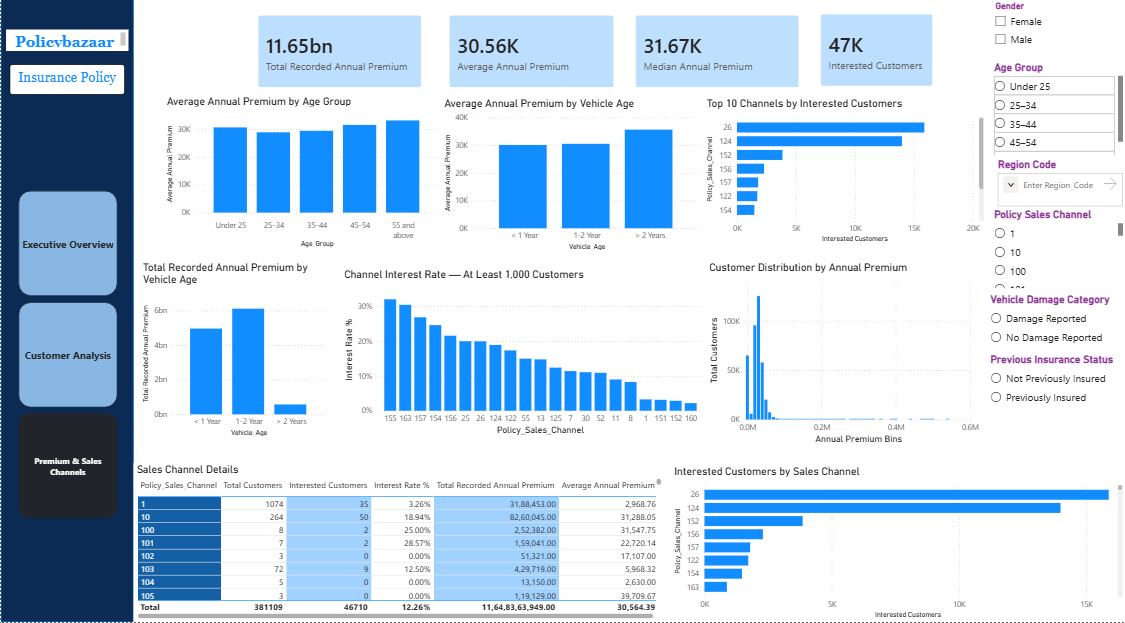

The page's visual inventory and layout, read from the dashboard file:
{"tool":"powerbi","page":{"name":"Premium & Sales Channels","canvas":[1600,1000],"ordinal":2},"visuals":[{"type":"slicer","fields":{"Values":["Customers.Gender"]},"box":[1378,4,222,108],"z":4000},{"type":"listSlicer","fields":{"Values":["Customers.Age_Group"]},"box":[1382,102,216,156],"z":5000},{"type":"listSlicer","fields":{"Values":["Customers.Previous_Insurance_Status"]},"box":[1380,570,216,94],"z":6000},{"type":"textSlicer","fields":{"Values":["Customers.Region_Code"]},"box":[1380,258,210,82],"z":7000},{"type":"listSlicer","fields":{"Values":["Customers.Policy_Sales_Channel"]},"box":[1384,340,216,134],"z":8000},{"type":"listSlicer","fields":{"Values":["Customers.Vehicle_Damage_Category"]},"box":[1378,474,222,96],"z":9000},{"type":"cardVisual","fields":{"Data":["Customers.Total Recorded Annual Premium"]},"box":[18.6,4.3,295.7,150],"z":9001},{"type":"cardVisual","fields":{"Data":["Customers.Average Annual Premium"]},"box":[304.3,4.3,297.1,150],"z":9002},{"type":"cardVisual","fields":{"Data":["Customers.Median Annual Premium"]},"box":[601.4,4.3,297.1,150],"z":9003},{"type":"cardVisual","fields":{"Data":["Customers.Interested Customers"]},"box":[898.6,4.3,214.3,150],"z":9004},{"type":"clusteredColumnChart","title":"Average Annual Premium by Age Group","fields":{"Category":["Customers.Age_Group"],"Y":["Customers.Average Annual Premium"]},"box":[0,154,444,250],"z":9005},{"type":"clusteredColumnChart","title":"Average Annual Premium by Vehicle Age","fields":{"Category":["Customers.Vehicle_Age"],"Y":["Customers.Average Annual Premium"]},"box":[450,154,420,250],"z":9006},{"type":"clusteredBarChart","title":"Interested Customers by Sales Channel","fields":{"Category":["Customers.Policy_Sales_Channel"],"Y":["Customers.Interested Customers"]},"box":[870,740,728,252],"z":9007},{"type":"clusteredColumnChart","title":"Channel Interest Rate — At Least 1,000 Customers","fields":{"Category":["Customers.Policy_Sales_Channel"],"Y":["Customers.Interest Rate %"]},"box":[346,434,584,272],"z":9008},{"type":"clusteredBarChart","title":"Top 10 Channels by Interested Customers","fields":{"Category":["Customers.Policy_Sales_Channel"],"Y":["Customers.Interested Customers"]},"box":[900,154,454,238],"z":9009},{"type":"clusteredColumnChart","title":"Customer Distribution by Annual Premium","fields":{"Category":["Customers.Annual Premium Bins"],"Y":["Customers.Total Customers"]},"box":[936,408,442,298],"z":9010},{"type":"clusteredColumnChart","title":"Total Recorded Annual Premium by Vehicle Age","fields":{"Category":["Customers.Vehicle_Age"],"Y":["Customers.Total Recorded Annual Premium"]},"box":[14.3,420,300,300],"z":9011},{"type":"tableEx","title":"Sales Channel Details","fields":{"Values":["Customers.Policy_Sales_Channel","Customers.Total Customers","Customers.Interested Customers","Customers.Interest Rate %","Customers.Total Recorded Annual Premium","Customers.Average Annual Premium"]},"box":[18,720,850,254],"z":9012}]}

Visuals, with their boxes on the page's 1600x1000 design canvas (x1, y1, x2, y2). These are canvas units, not pixel positions in the 1125x623 screenshot, which may show the page scaled, cropped or inside an application window:
slicer - Customers.Gender: pyautogui.locateOnScreen(1378, 4, 1600, 112)
listSlicer - Customers.Age_Group: pyautogui.locateOnScreen(1382, 102, 1598, 258)
listSlicer - Customers.Previous_Insurance_Status: pyautogui.locateOnScreen(1380, 570, 1596, 664)
textSlicer - Customers.Region_Code: pyautogui.locateOnScreen(1380, 258, 1590, 340)
listSlicer - Customers.Policy_Sales_Channel: pyautogui.locateOnScreen(1384, 340, 1600, 474)
listSlicer - Customers.Vehicle_Damage_Category: pyautogui.locateOnScreen(1378, 474, 1600, 570)
cardVisual - Customers.Total Recorded Annual Premium: pyautogui.locateOnScreen(19, 4, 314, 154)
cardVisual - Customers.Average Annual Premium: pyautogui.locateOnScreen(304, 4, 601, 154)
cardVisual - Customers.Median Annual Premium: pyautogui.locateOnScreen(601, 4, 898, 154)
cardVisual - Customers.Interested Customers: pyautogui.locateOnScreen(899, 4, 1113, 154)
"Average Annual Premium by Age Group" clusteredColumnChart: pyautogui.locateOnScreen(0, 154, 444, 404)
"Average Annual Premium by Vehicle Age" clusteredColumnChart: pyautogui.locateOnScreen(450, 154, 870, 404)
"Interested Customers by Sales Channel" clusteredBarChart: pyautogui.locateOnScreen(870, 740, 1598, 992)
"Channel Interest Rate — At Least 1,000 Customers" clusteredColumnChart: pyautogui.locateOnScreen(346, 434, 930, 706)
"Top 10 Channels by Interested Customers" clusteredBarChart: pyautogui.locateOnScreen(900, 154, 1354, 392)
"Customer Distribution by Annual Premium" clusteredColumnChart: pyautogui.locateOnScreen(936, 408, 1378, 706)
"Total Recorded Annual Premium by Vehicle Age" clusteredColumnChart: pyautogui.locateOnScreen(14, 420, 314, 720)
"Sales Channel Details" tableEx: pyautogui.locateOnScreen(18, 720, 868, 974)
